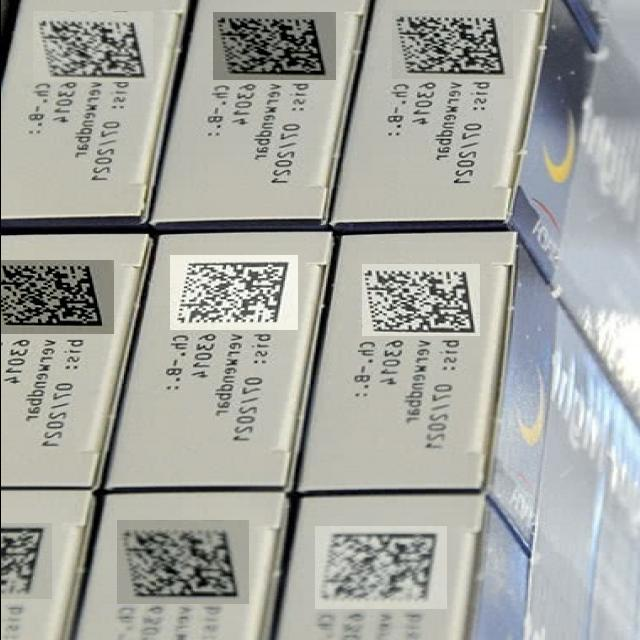Data-Matrix: (116, 520, 248, 604), (314, 526, 446, 609), (169, 255, 297, 330), (32, 11, 152, 82), (361, 264, 479, 336), (212, 12, 335, 80), (0, 260, 113, 334), (391, 10, 512, 79), (0, 523, 51, 599)
